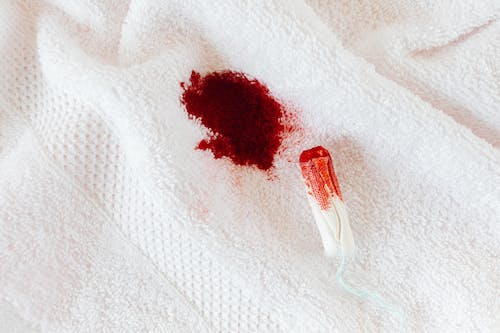blood: (177, 65, 304, 182), (298, 143, 347, 212)
